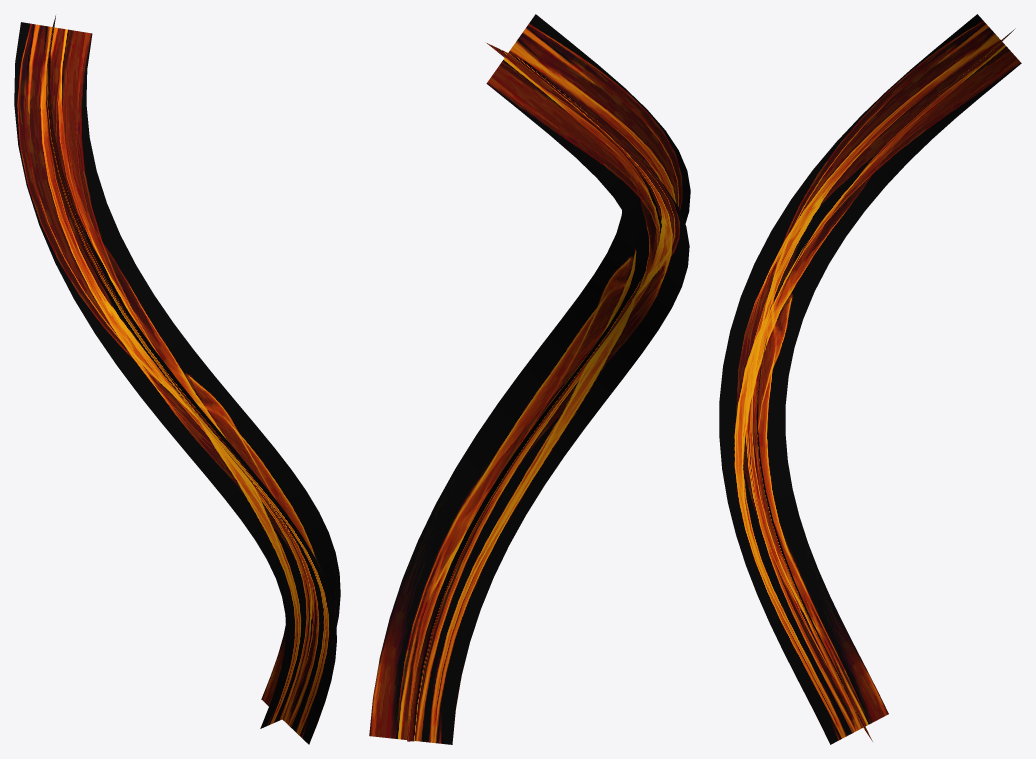
The model's file is shizitiaodai_k.FBX.
3 views of the same model, side by side, from view 1: azimuth 30°, elevation 25°; view 2: azimuth 150°, elevation 25°; view 3: azimuth 270°, elevation 25° (orthographic). The views are drawn at different scales.
Visible parts, largest first — view 1: Helix002; view 2: Helix002; view 3: Helix002.
Part boxes in pixels (<box>): Helix002: <box>14,15,340,744</box>; Helix002: <box>369,14,690,744</box>; Helix002: <box>719,14,1021,744</box>.
Bounding box in the file's own units: 1.8 × 4.65 × 1.95.
